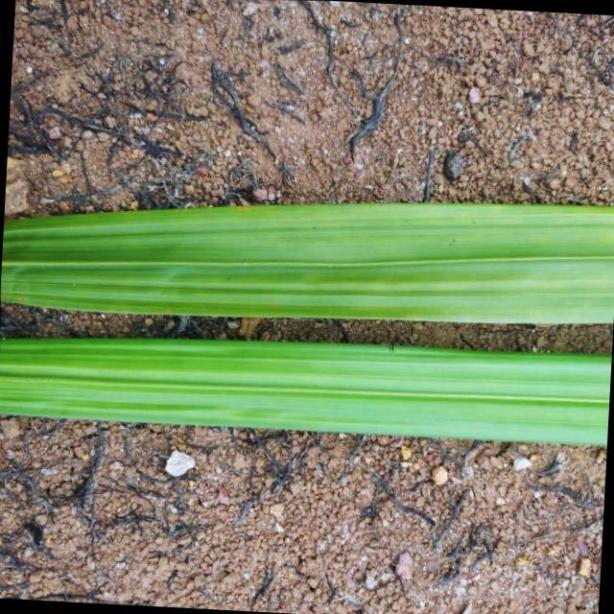nitrogen: (5, 328, 614, 451), (3, 203, 614, 320)
